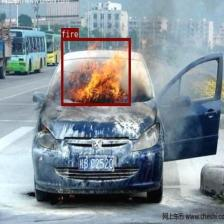fire: (61, 38, 130, 105)
